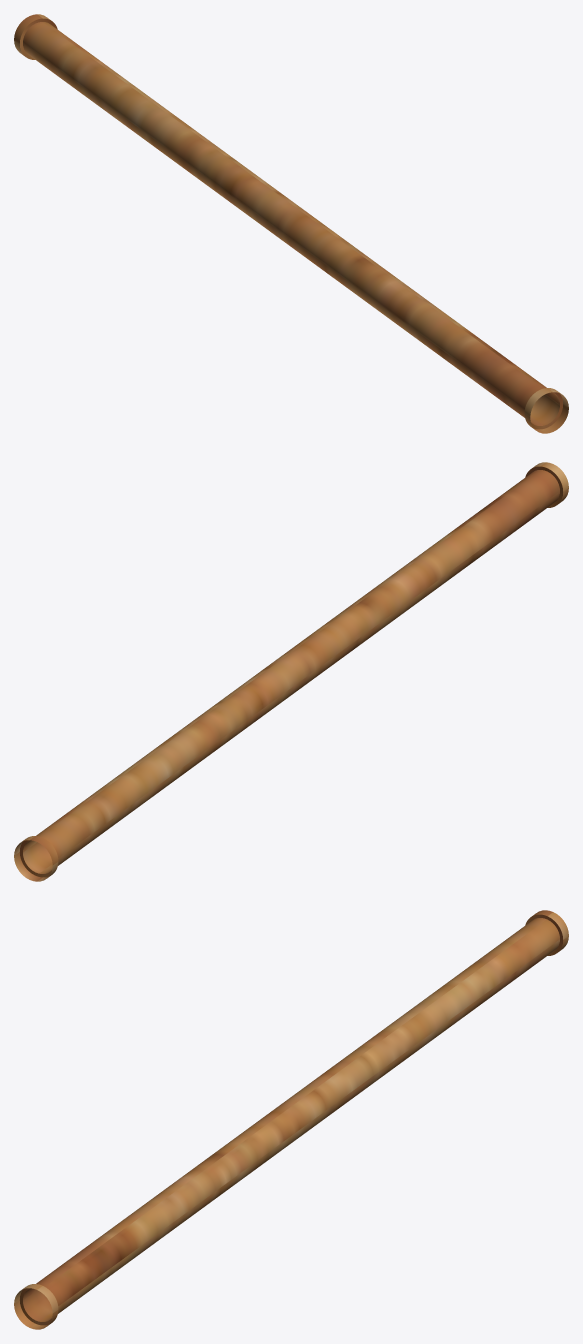
The model's file is pipe_01.fbx.
3 views of the same model, one above another, from view 1: azimuth 30°, elevation 25°; view 2: azimuth 150°, elevation 25°; view 3: azimuth 330°, elevation 25° (orthographic).
Parts seen in each view (by area): view 1: Cylinder.001; view 2: Cylinder.001; view 3: Cylinder.001.
Part boxes in pixels (x1,y1,x2,y2): Cylinder.001: [14, 14, 568, 433]; Cylinder.001: [14, 462, 568, 881]; Cylinder.001: [14, 910, 568, 1329].
Bounding box in the file's own units: 8.66 × 8.66 × 200.
